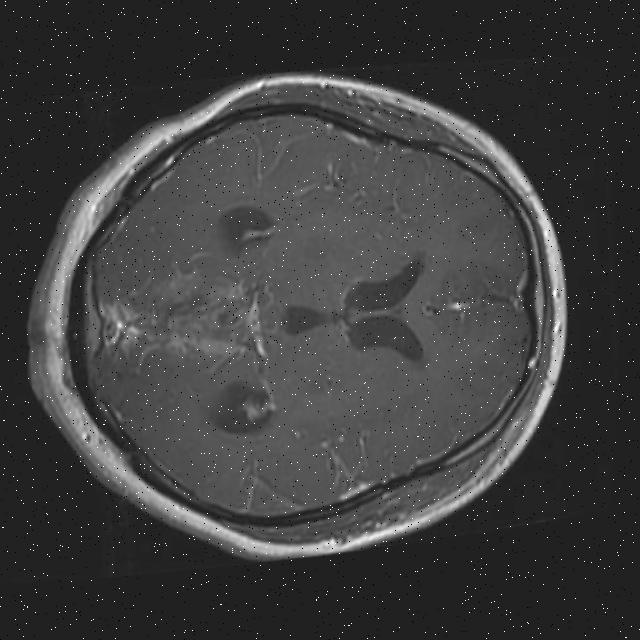Glioma: (130, 257, 258, 377)
